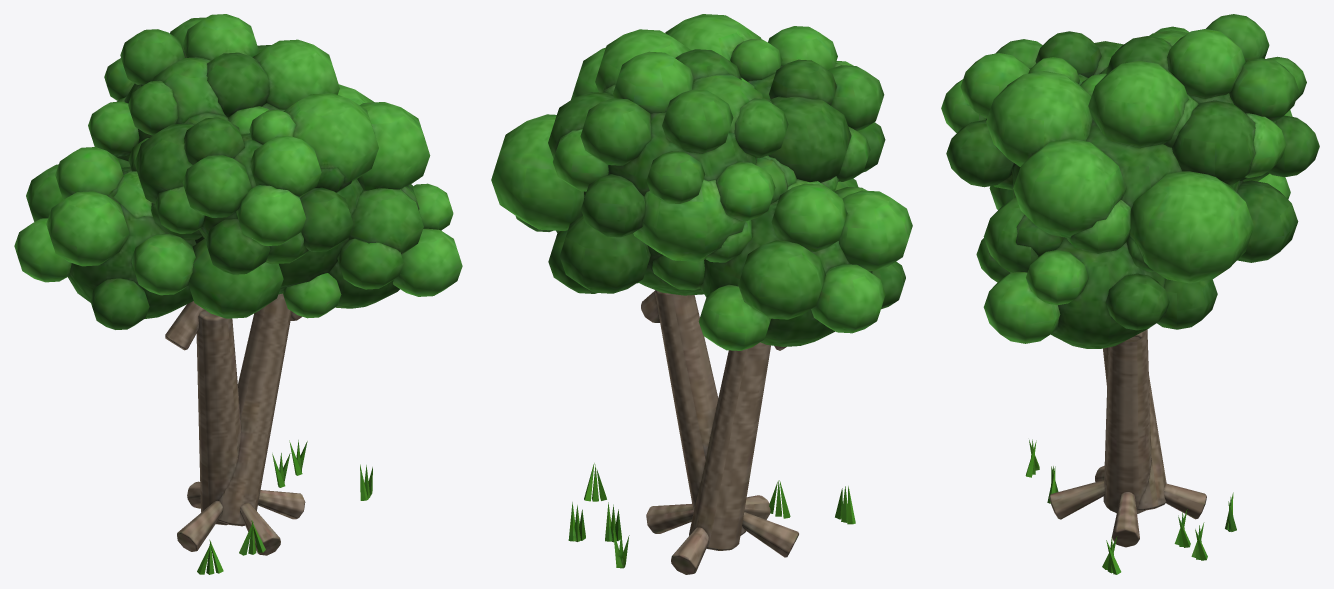
The model's file is jujube_tree.glb.
3 renders of one model, left to right at view 1: azimuth 30°, elevation 25°; view 2: azimuth 150°, elevation 25°; view 3: azimuth 270°, elevation 25°, orthographic. The views are drawn at different scales.
Visible parts, largest first — view 1: crown, jujube_tree; view 2: crown, jujube_tree; view 3: crown, jujube_tree.
Boxes of the visible parts, x1=… form: crown: x1=14, y1=14, x2=462, y2=329; jujube_tree: x1=165, y1=293, x2=372, y2=574; crown: x1=491, y1=14, x2=912, y2=350; jujube_tree: x1=568, y1=290, x2=855, y2=574; crown: x1=941, y1=14, x2=1319, y2=348; jujube_tree: x1=1025, y1=329, x2=1236, y2=574.
Bounding box in the file's own units: 1.03 × 1.28 × 0.885.
1 material, 1 textured.
